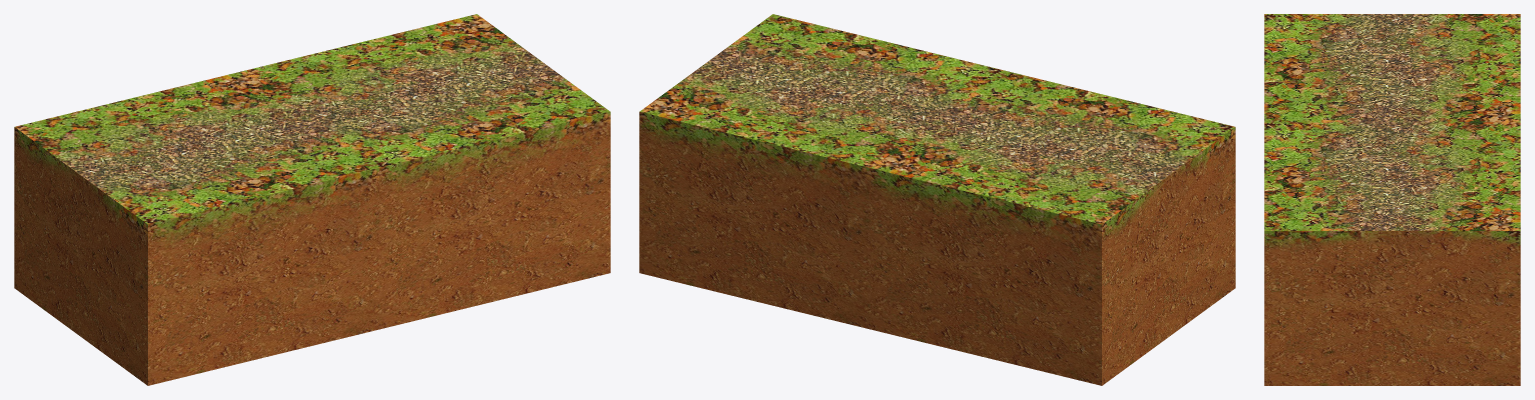
The model's file is Ground-2.fbx.
The picture shows the model from 3 angles, left to right: view 1: azimuth 30°, elevation 25°; view 2: azimuth 150°, elevation 25°; view 3: azimuth 270°, elevation 25°; orthographic projection. The views are drawn at different scales.
Visible parts, largest first — view 1: pCube1, pCube2; view 2: pCube1, pCube2; view 3: pCube2, pCube1.
Part boxes in pixels (box(x1,y1,x2,y2)): pCube1: box(14, 70, 379, 385); pCube2: box(246, 14, 610, 329); pCube1: box(870, 70, 1235, 385); pCube2: box(639, 14, 1003, 329); pCube2: box(1264, 122, 1520, 385); pCube1: box(1264, 14, 1520, 122).
Size of the model in its own units: 6 by 2 by 3.
